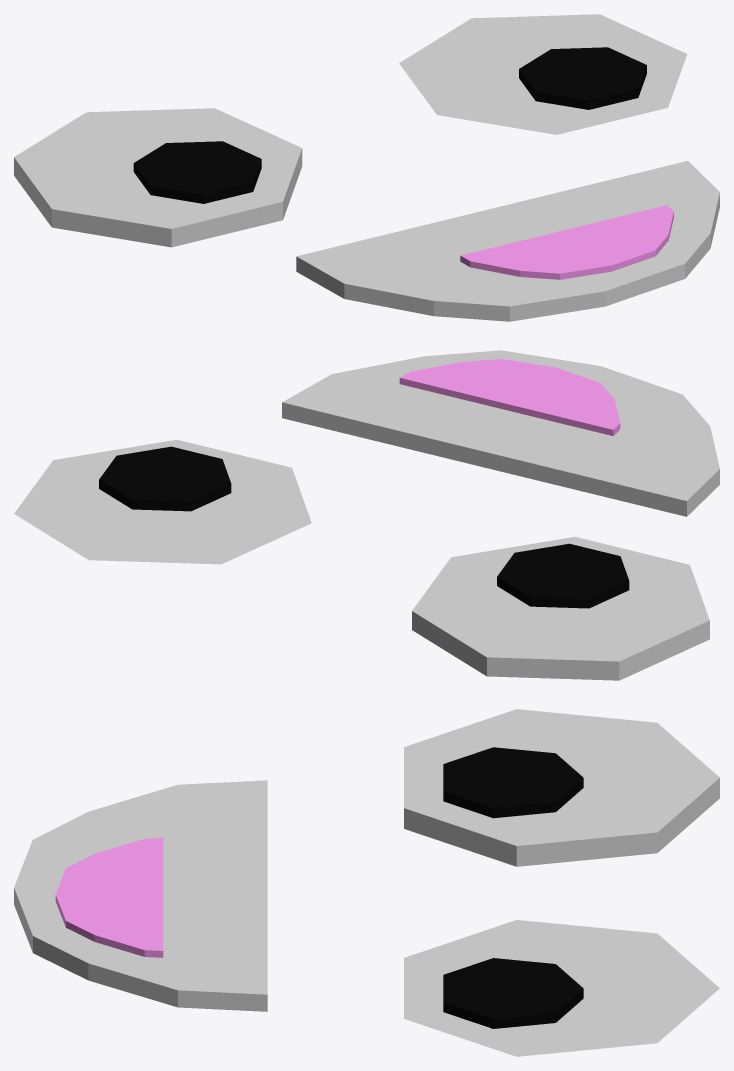
File: EyesFBX.fbx
3 renders of one model, top to bottom at view 1: azimuth 30°, elevation 25°; view 2: azimuth 150°, elevation 25°; view 3: azimuth 270°, elevation 25°, orthographic. The views are drawn at different scales.
Parts seen in each view (by area): view 1: Cylinder; view 2: Cylinder; view 3: Cylinder.
Boxes of the visible parts, x1,y1,x2,y2 form: Cylinder: [14, 14, 719, 321]; Cylinder: [14, 350, 719, 680]; Cylinder: [14, 709, 719, 1056].
Size of the model in its own units: 495 by 20.55 by 425.
